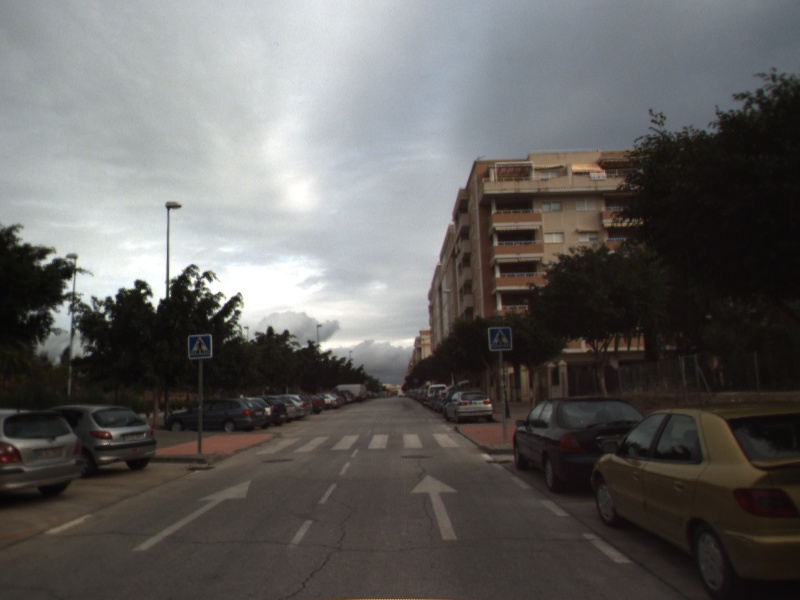STRAIGHT: (129, 478, 253, 553), (408, 473, 460, 542)
